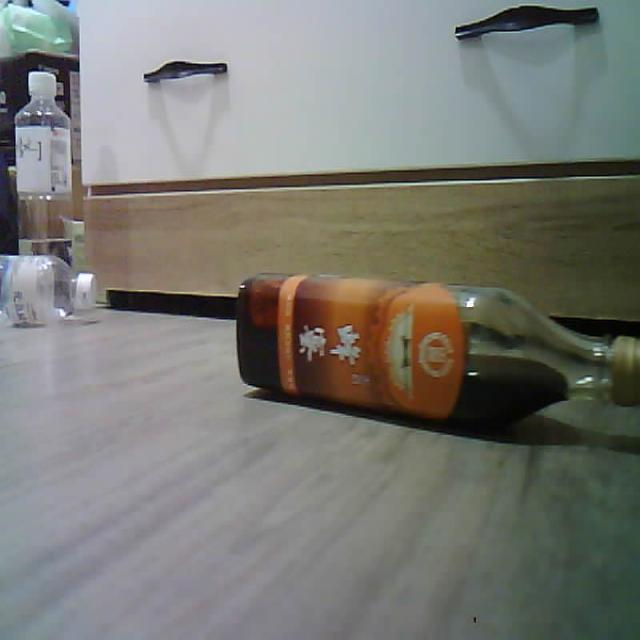bottle: (237, 273, 639, 425)
